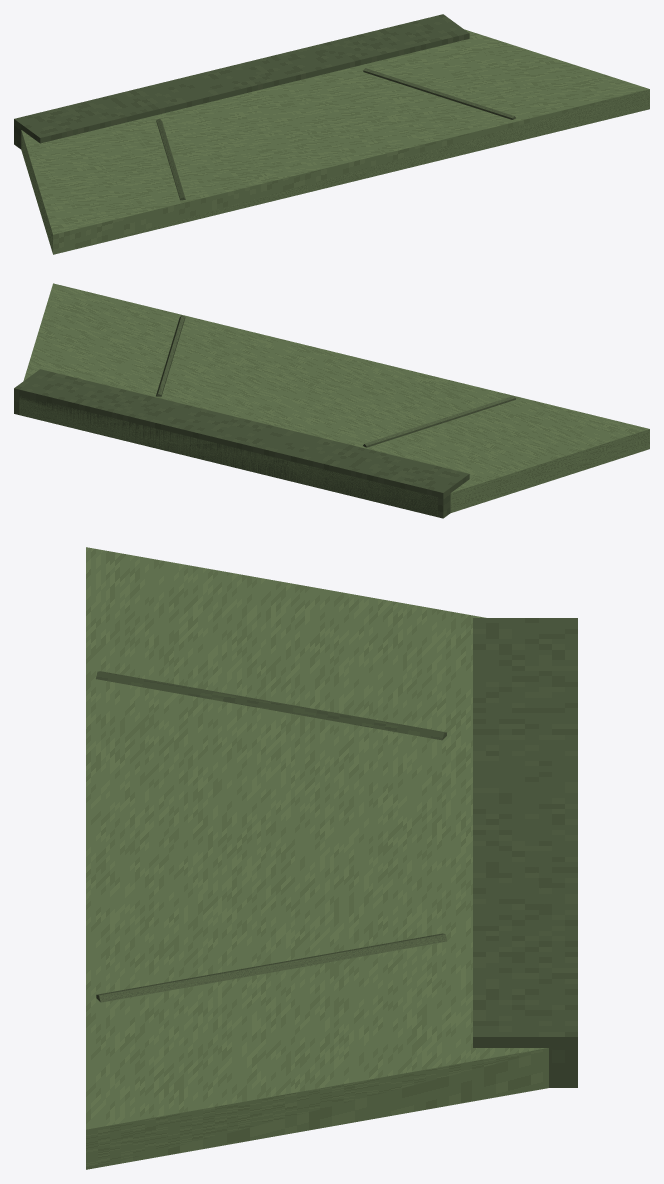
Rendered from nanoskirt.glb.
3 views of the same model, one above another, from view 1: azimuth 30°, elevation 25°; view 2: azimuth 150°, elevation 25°; view 3: azimuth 270°, elevation 25° (orthographic). The views are drawn at different scales.
Visible parts, largest first — view 1: block_pleated panel, block_waistband, block_pleat 1 0, block_pleat -1 0; view 2: block_pleated panel, block_waistband, block_pleat -1 0, block_pleat 1 0; view 3: block_pleated panel, block_waistband, block_pleat -1 0, block_pleat 1 0.
Boxes of the visible parts, x1,y1,x2,y2 form: block_pleated panel: [21, 29, 649, 254]; block_waistband: [14, 14, 469, 149]; block_pleat 1 0: [363, 68, 515, 119]; block_pleat -1 0: [156, 118, 185, 200]; block_pleated panel: [19, 283, 649, 516]; block_waistband: [14, 369, 469, 518]; block_pleat -1 0: [363, 395, 515, 447]; block_pleat 1 0: [156, 315, 185, 396]; block_pleated panel: [86, 547, 548, 1169]; block_waistband: [473, 618, 577, 1087]; block_pleat -1 0: [96, 671, 446, 740]; block_pleat 1 0: [96, 933, 446, 1002].
Bounding box in the file's own units: 0.342 × 0.014 × 0.122.
1 material, 1 textured.
